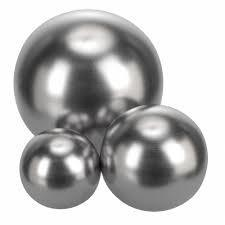steelball: (7, 5, 176, 150), (102, 99, 214, 222), (15, 126, 102, 213)
